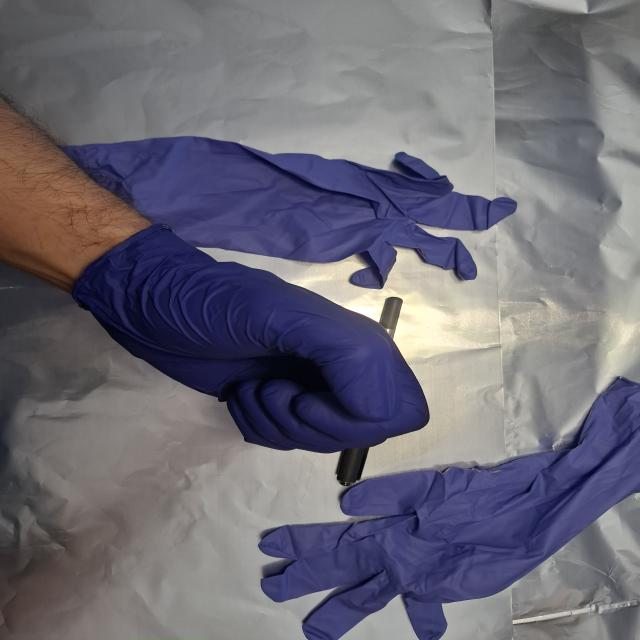glove_on: (76, 226, 434, 456)
